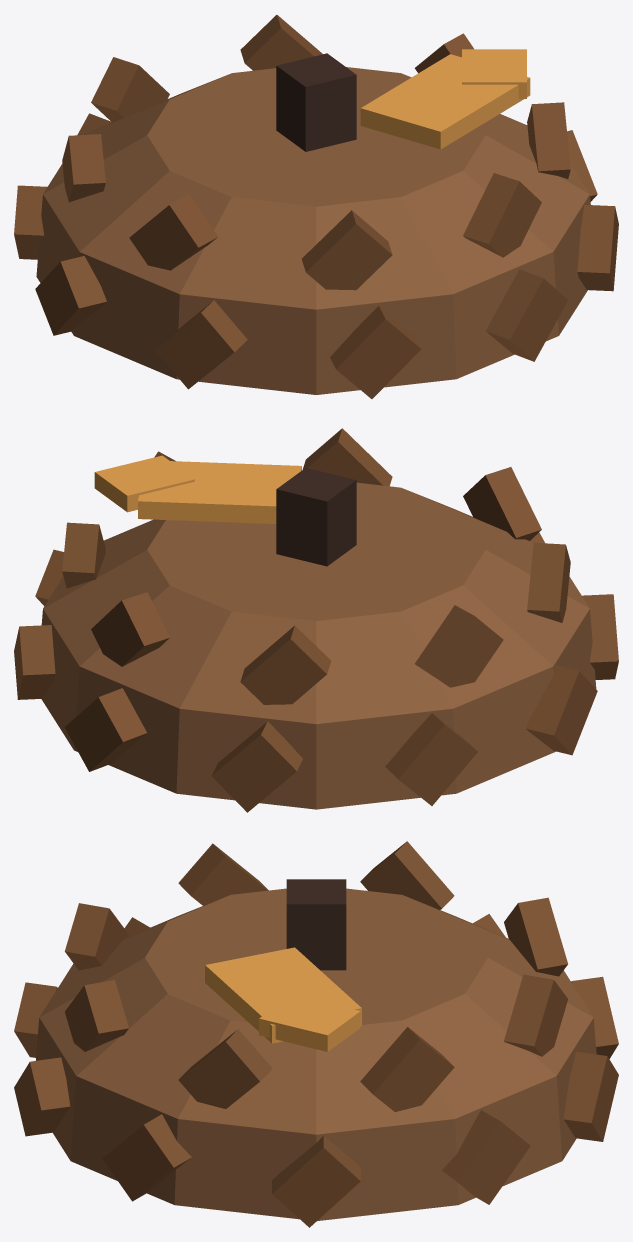
Rendered from CatCafe_Accessory_AcornHat.glb.
3 renders of one model, top to bottom at view 1: azimuth 30°, elevation 25°; view 2: azimuth 150°, elevation 25°; view 3: azimuth 270°, elevation 25°, orthographic.
Parts seen in each view (by area): view 1: CatCafe_Accessory_AcornHat; view 2: CatCafe_Accessory_AcornHat; view 3: CatCafe_Accessory_AcornHat.
Part boxes in pixels (bbox=[...]): CatCafe_Accessory_AcornHat: bbox=[14, 15, 618, 398]; CatCafe_Accessory_AcornHat: bbox=[14, 428, 618, 812]; CatCafe_Accessory_AcornHat: bbox=[14, 841, 618, 1227].
Bounding box in the file's own units: 0.92 × 0.35 × 0.9165.
1 material, 1 textured.
